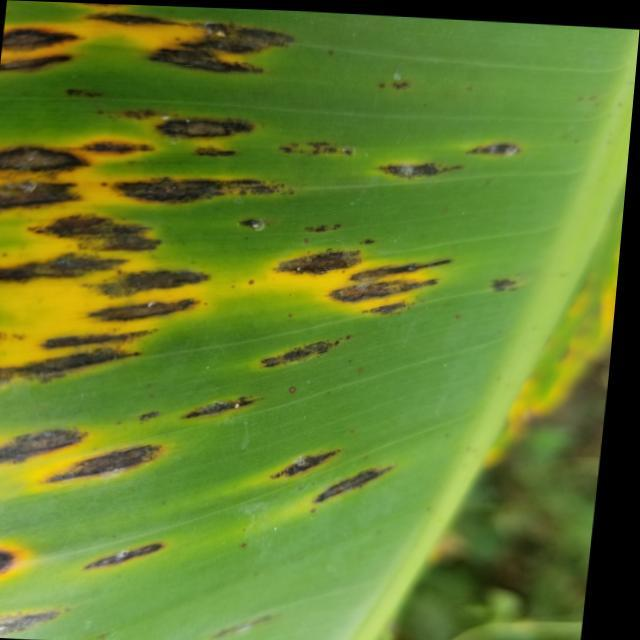Early_rust: (0, 0, 513, 634)
